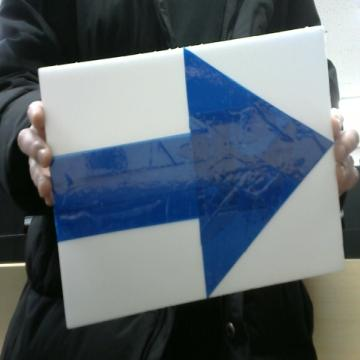blue_right: (51, 50, 330, 296)
